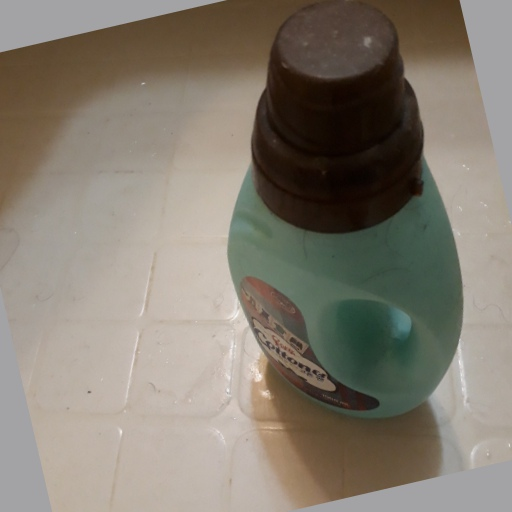Plastic_1: (227, 6, 465, 423)
